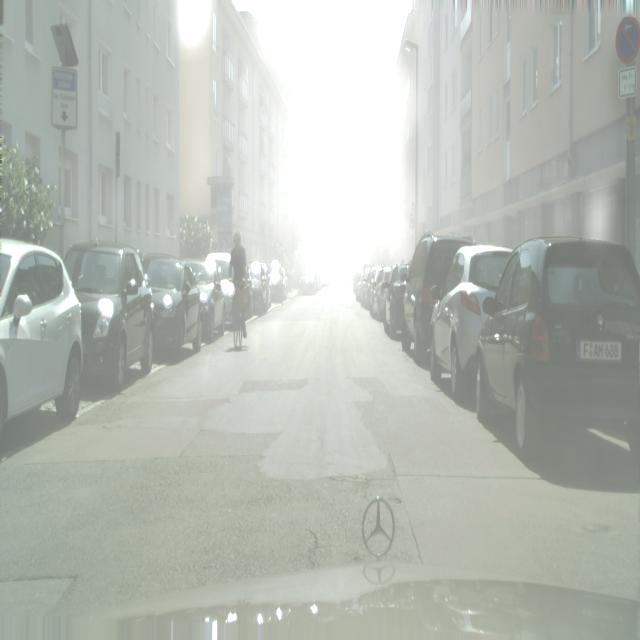car: (228, 230, 250, 340)
truck: (475, 236, 640, 458), (0, 236, 83, 444), (428, 242, 514, 401), (64, 241, 154, 391), (402, 234, 475, 366), (145, 257, 202, 360), (183, 258, 226, 341), (383, 262, 410, 339), (248, 261, 272, 313), (372, 266, 390, 319), (377, 266, 393, 324), (268, 259, 287, 304), (360, 266, 378, 312), (368, 266, 384, 316), (298, 264, 322, 296), (358, 266, 374, 306), (336, 264, 349, 288), (353, 264, 362, 298), (321, 264, 332, 285)
